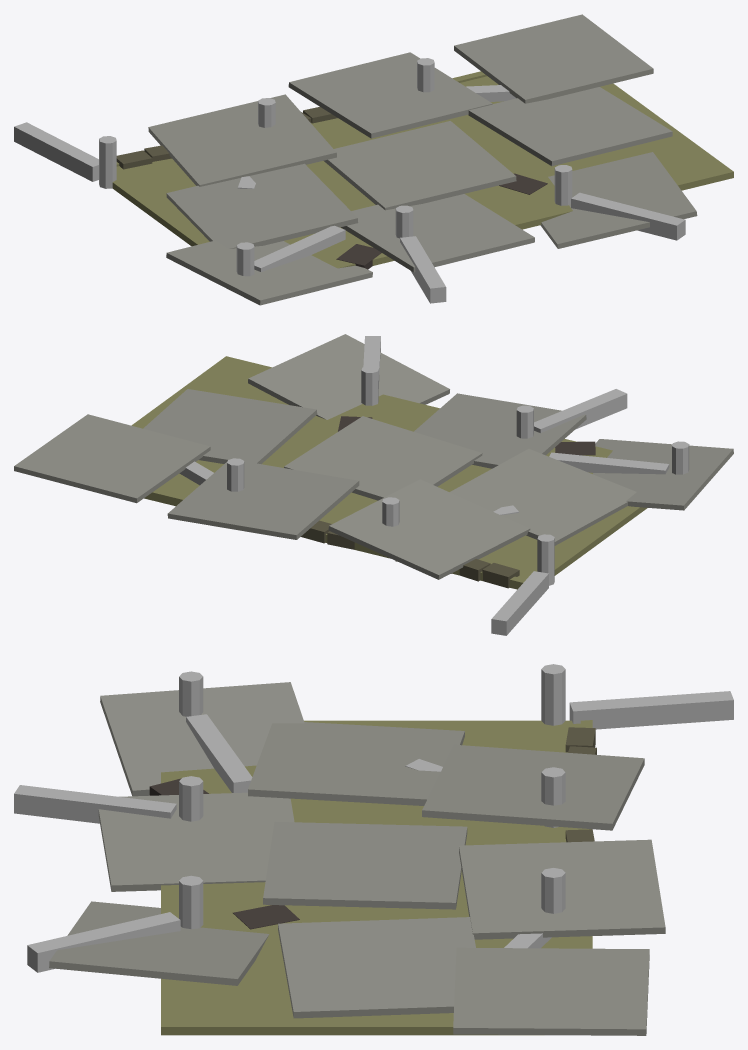
The model's file is SM_MarquesinaBus_v2_Barricada_e3_Brecha_LOD0.fbx.
The picture shows the model from 3 angles, top to bottom: view 1: azimuth 30°, elevation 25°; view 2: azimuth 150°, elevation 25°; view 3: azimuth 270°, elevation 25°; orthographic projection. The views are drawn at different scales.
Visible parts, largest first — view 1: SM_marquesina_bus_v11_LOD0; view 2: SM_marquesina_bus_v11_LOD0; view 3: SM_marquesina_bus_v11_LOD0.
Boxes of the visible parts, <box> form: SM_marquesina_bus_v11_LOD0: <box>14,14,733,305</box>; SM_marquesina_bus_v11_LOD0: <box>14,334,733,635</box>; SM_marquesina_bus_v11_LOD0: <box>14,664,733,1035</box>.
Size of the model in its own units: 13.87 by 1.16 by 11.92.
